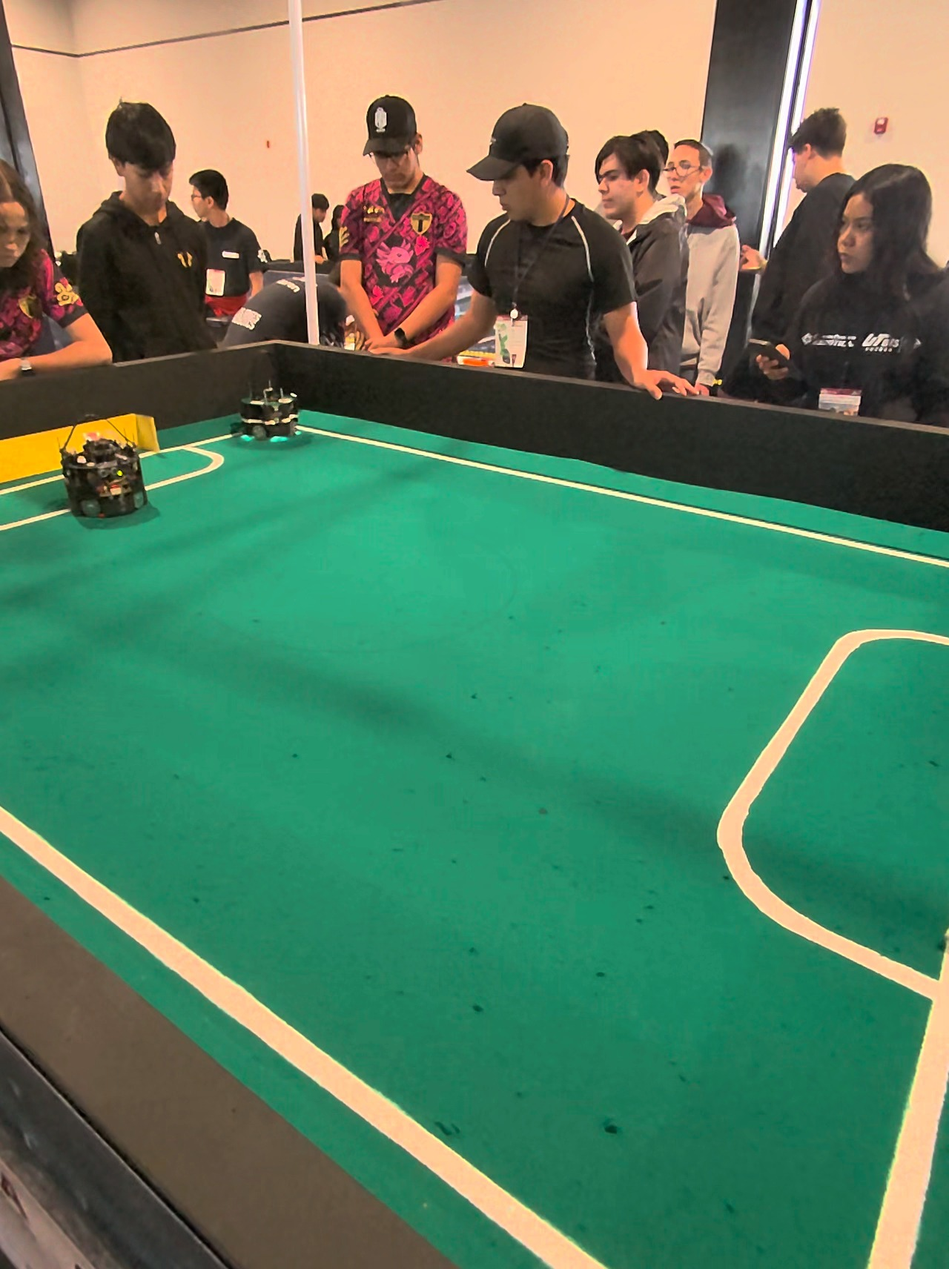Robot: (57, 407, 151, 525), (228, 347, 300, 463)
